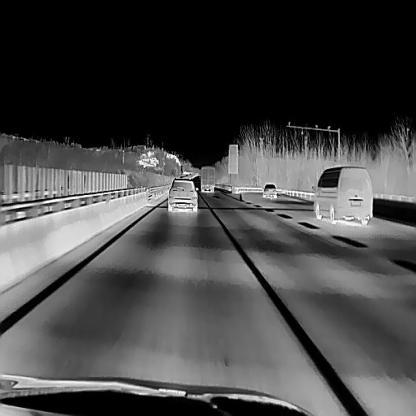car: (311, 165, 372, 224), (167, 176, 198, 212), (200, 164, 215, 192), (261, 182, 277, 198)
